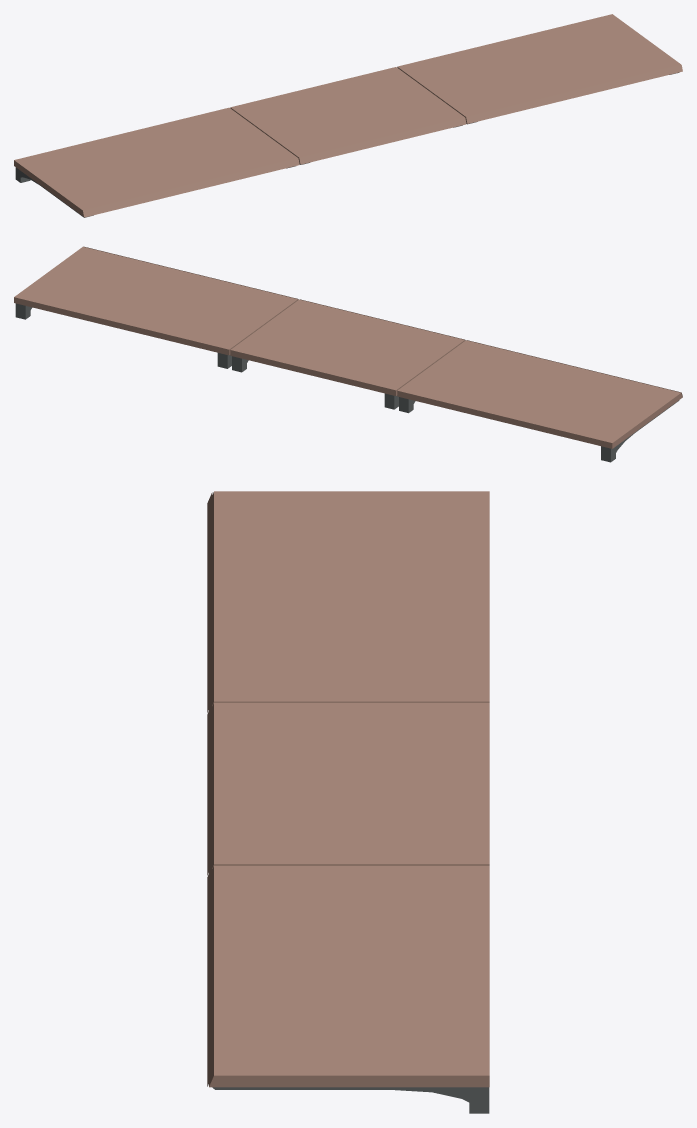
Rendered from SM_shelf_flat_01.fbx.
3 views of the same model, one above another, from view 1: azimuth 30°, elevation 25°; view 2: azimuth 150°, elevation 25°; view 3: azimuth 270°, elevation 25° (orthographic). The views are drawn at different scales.
Parts seen in each view (by area): view 1: shelf_flat_01; view 2: shelf_flat_01; view 3: shelf_flat_01.
Boxes of the visible parts, box(x1,y1,x2,y2) form: shelf_flat_01: box(14, 14, 682, 217); shelf_flat_01: box(14, 246, 682, 462); shelf_flat_01: box(207, 491, 489, 1113).
Bounding box in the file's own units: 466 × 14.7 × 95.1.
